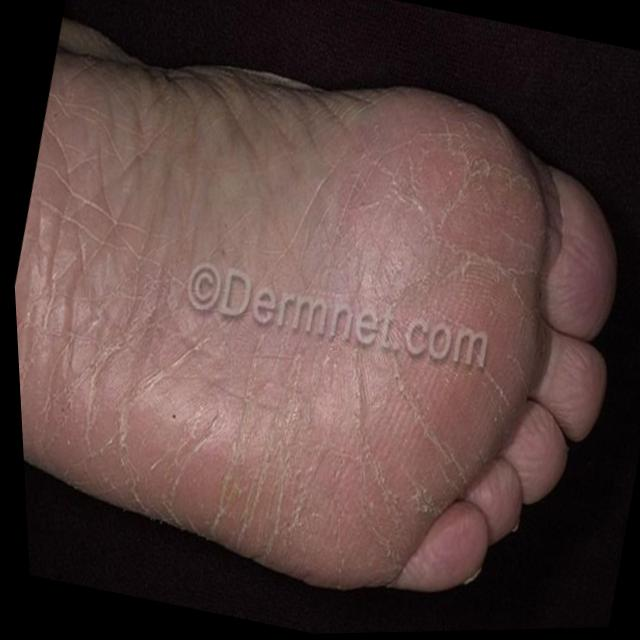liquenificacion 1: (15, 54, 532, 568)
liquenificacion 2: (15, 54, 532, 568)
